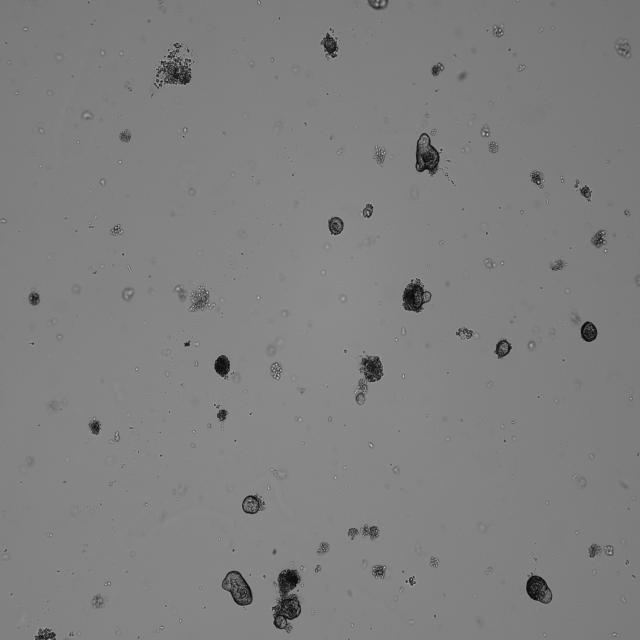alive: (219, 566, 255, 610), (411, 129, 443, 176), (522, 572, 555, 606), (240, 489, 263, 516), (578, 317, 600, 344), (212, 352, 233, 379), (492, 338, 516, 360), (325, 214, 346, 236), (274, 616, 288, 630)
dead: (151, 38, 195, 88), (269, 566, 304, 616), (399, 274, 433, 315), (316, 28, 342, 62), (188, 282, 215, 314), (359, 351, 386, 382), (589, 225, 610, 252), (370, 140, 391, 166), (107, 221, 127, 239), (269, 360, 284, 381)
